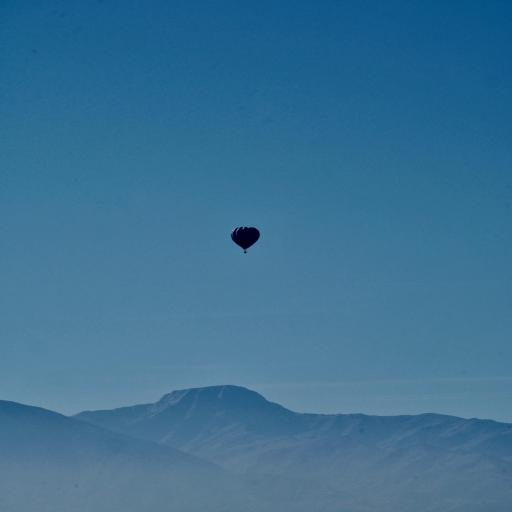hot air ballon: (234, 223, 261, 256)
